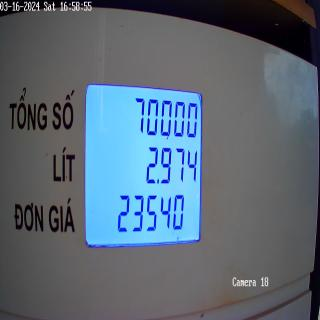screen: (82, 76, 205, 250)
